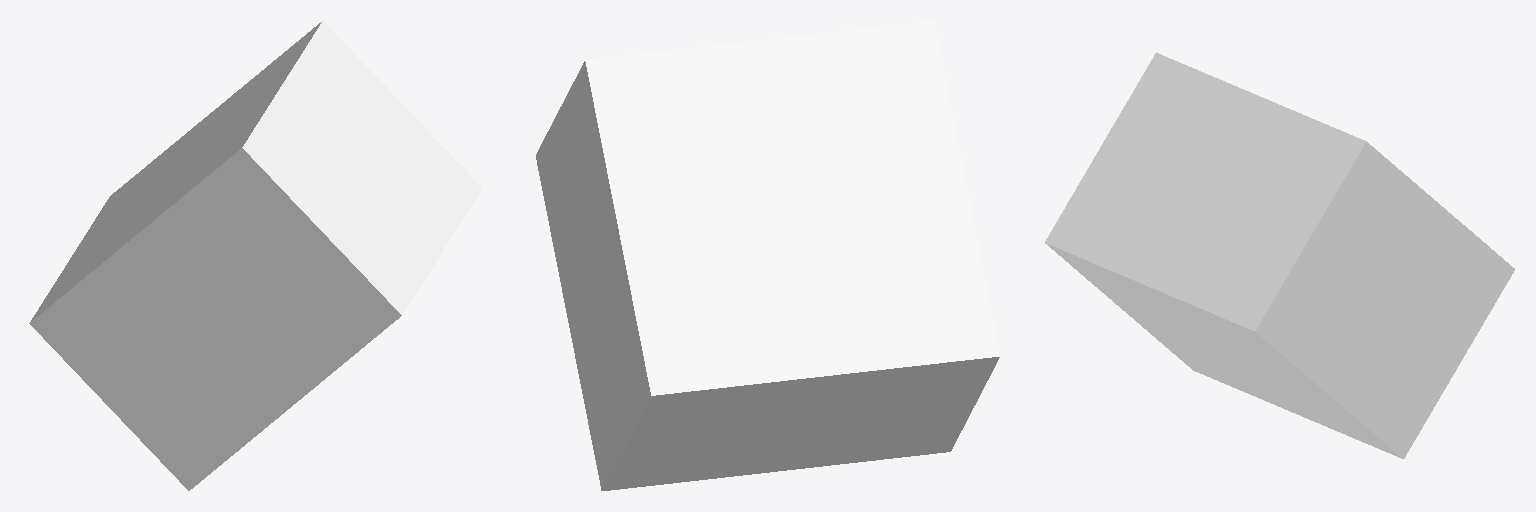
robot.urdf — cube_gripper_right.urdf:
<?xml version="1.0" ?>
<robot name="cube_gripper_right.urdf">
  <link name="world">
  </link>
  
  <link name="baseLink">
    <contact>
      <lateral_friction value="1.0"/>
      <spinning_friction value="0.3"/>
      <inertia_scaling value="3.0"/>
    </contact>
    <inertial>
      <origin rpy="0 0 0" xyz="0 0 0"/>
       <mass value=".1"/>
       <inertia ixx="1" ixy="0" ixz="0" iyy="1" iyz="0" izz="1"/>
    </inertial>
    <visual>
      <origin rpy="0 -0.785398 -0.785398" xyz="0 0 0"/>
      <geometry>
				<mesh filename="cube.obj" scale=".05 .05 .05"/>
      </geometry>
       <material name="white">
        <color rgba="1 1 1 1"/>
      </material>
    </visual>
    <collision>
      <origin rpy="0 -0.785398 -0.785398" xyz="0 0 0"/>
      <geometry>
	 	<box size=".05 .05 .05"/>
      </geometry>
    </collision>
  </link>
  
  <joint name="cube_joint" type="prismatic">
    <parent link="world"/>
    <child link="baseLink"/>
    <origin rpy="0 0 0" xyz="0 0 0"/>
    <axis xyz="1 0 0"/>
    <limit effort="300" lower="-2.96705972839" upper="2.96705972839" velocity="10"/>
    <dynamics damping="0.0"/>
  </joint>
</robot>


--- What the picture shows (computed from the rendered views, not written in the file) ---
Views: 3 orthographic renders of the robot side by side, from view 1: azimuth 30°, elevation 25°; view 2: azimuth 150°, elevation 25°; view 3: azimuth 270°, elevation 25°.
Robot: cube_gripper_right.urdf — 2 links, 1 joints (1 prismatic); root link world; default pose: every joint at zero.
Visible links, largest first — view 1: baseLink; view 2: baseLink; view 3: baseLink.
Boxes of the visible links, box(x1,y1,x2,y2) form: baseLink: box(29, 21, 482, 490); baseLink: box(536, 21, 999, 490); baseLink: box(1045, 53, 1514, 458).
Size in the robot's own frame: 0.0069 by 0.0069 by 0.0054 metres.
Meshes: 1 distinct files referenced, 1 mesh visuals loaded (1 OBJ).